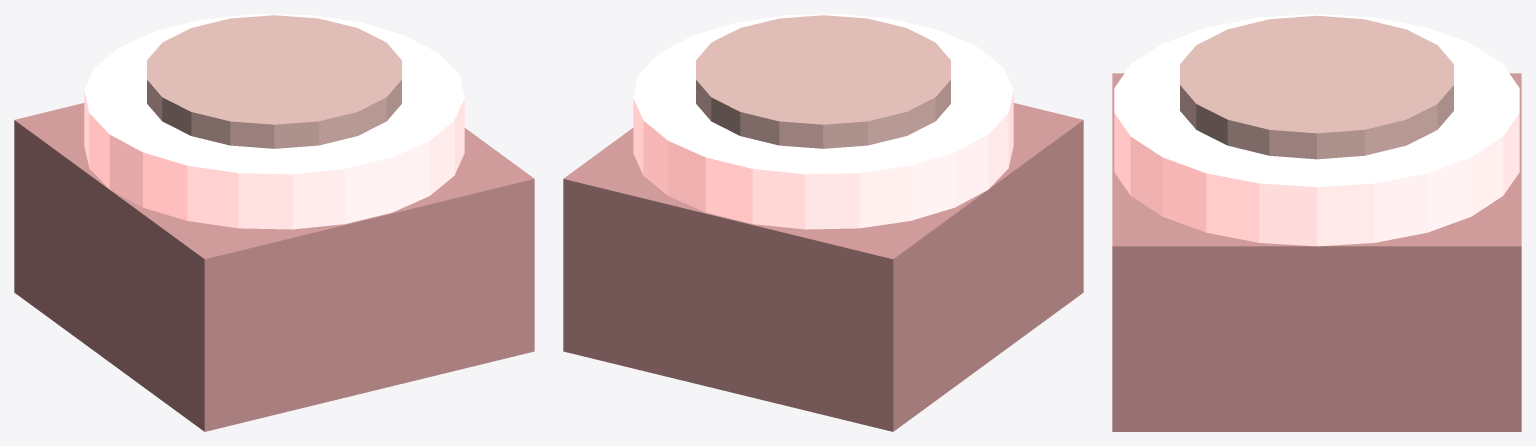
Rendered from Bounce_TopHalf.glb.
The picture shows the model from 3 angles, left to right: view 1: azimuth 30°, elevation 25°; view 2: azimuth 150°, elevation 25°; view 3: azimuth 270°, elevation 25°; orthographic projection. The views are drawn at different scales.
Parts seen in each view (by area): view 1: Bounce_TopHalf_body, bounce_base.002, bounce_fill_ring.002; view 2: Bounce_TopHalf_body, bounce_base.002, bounce_fill_ring.002; view 3: Bounce_TopHalf_body, bounce_base.002, bounce_fill_ring.002.
Part boxes in pixels (x1,y1,x2,y2): Bounce_TopHalf_body: (14,103,534,431); bounce_base.002: (84,14,464,229); bounce_fill_ring.002: (147,15,401,148); Bounce_TopHalf_body: (563,103,1083,431); bounce_base.002: (633,14,1013,229); bounce_fill_ring.002: (696,15,950,148); Bounce_TopHalf_body: (1112,73,1521,431); bounce_base.002: (1114,14,1519,246); bounce_fill_ring.002: (1180,15,1453,159).
Bounding box in the file's own units: 1 × 0.73 × 1.
